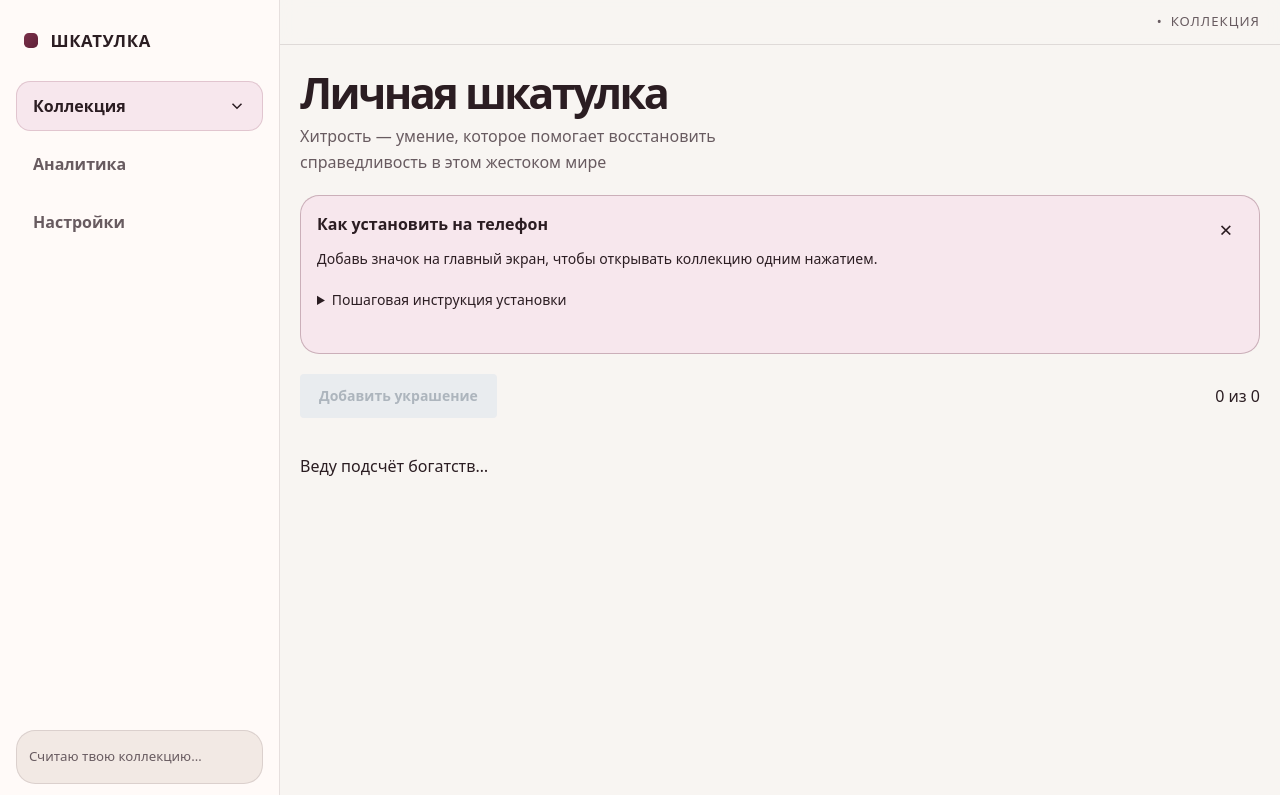
it: foundation app › uses hash routes so settings can be opened on a static host
Click the button "Настройки": [140, 222] box [16,197,263,247]
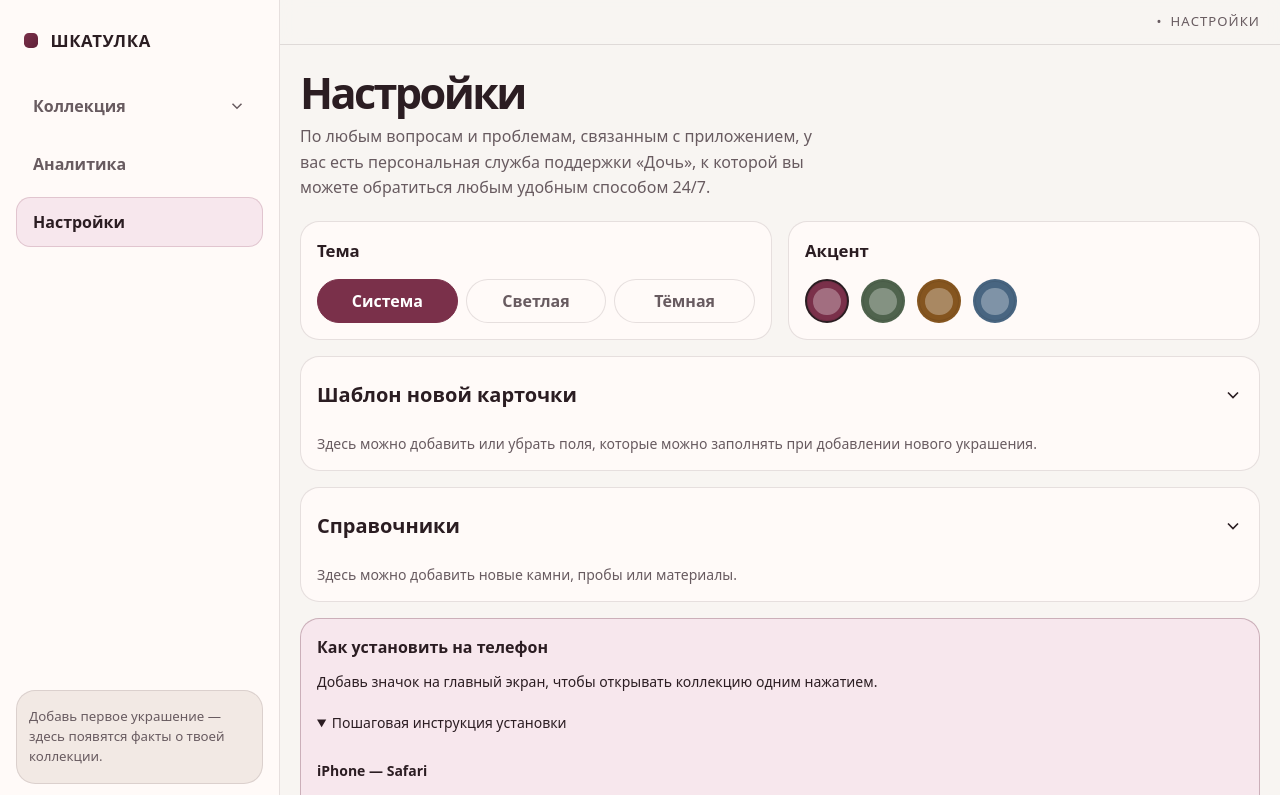
Result: the heading "Настройки" is shown at [300,63,525,122]
